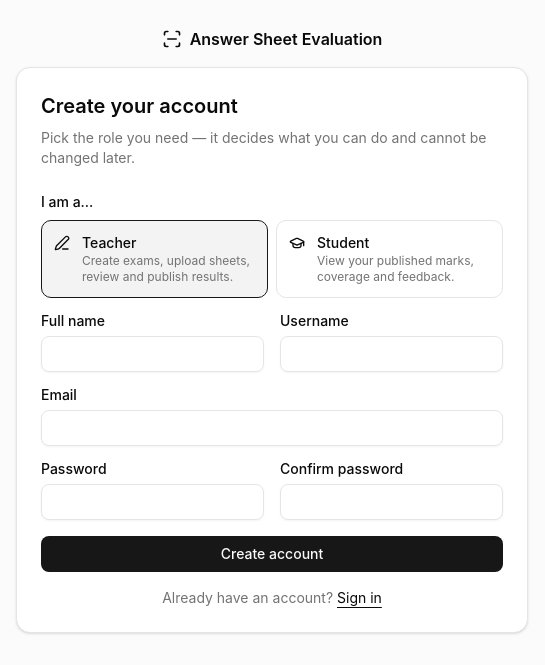
Scenario: Signup › rejects mismatched passwords
Type "A Deepika" into the field labelled "Full name". click: (152, 354)
box: x1=41 y1=336 x2=264 y2=372
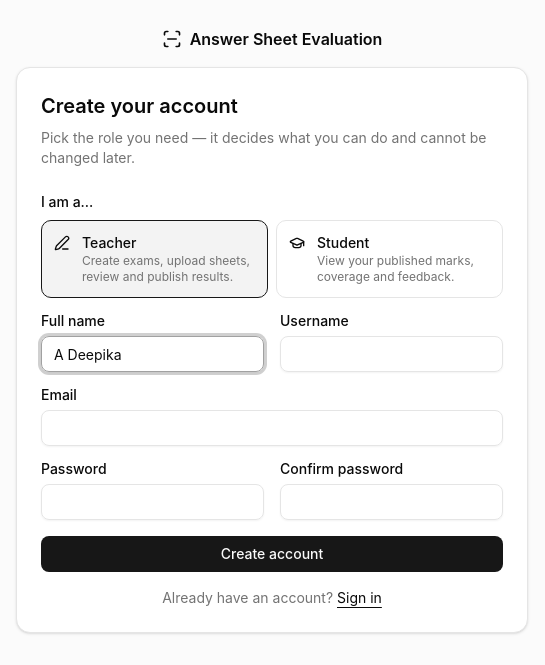
Type "deepika" into the field labelled "Username". click: (392, 354)
box: x1=280 y1=336 x2=503 y2=372
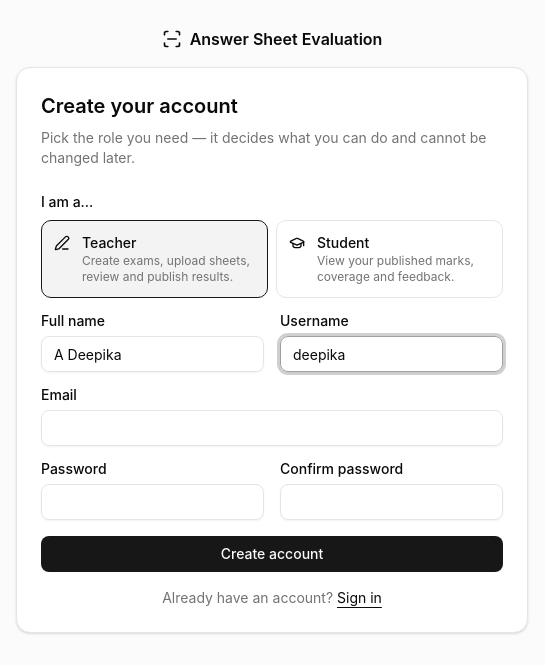
Type "deepika@bmsit.in" into the field labelled "Email". click: (272, 428)
box: x1=41 y1=410 x2=503 y2=446
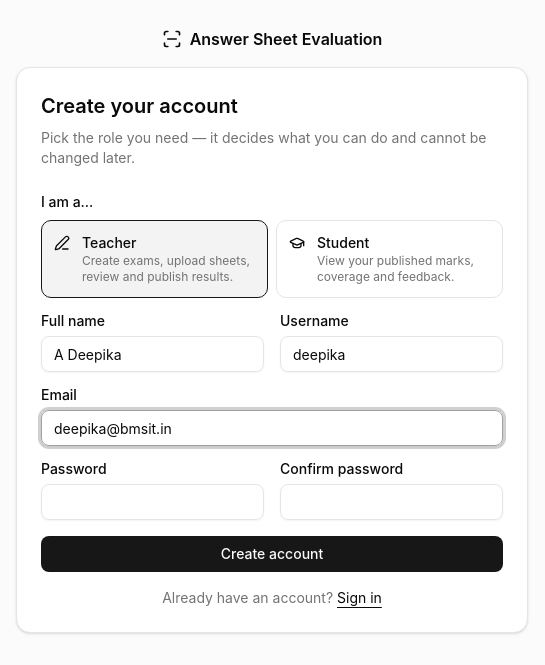
Type "correct-horse" into the password field labelled "Password". click: (152, 502)
box: x1=41 y1=484 x2=264 y2=520
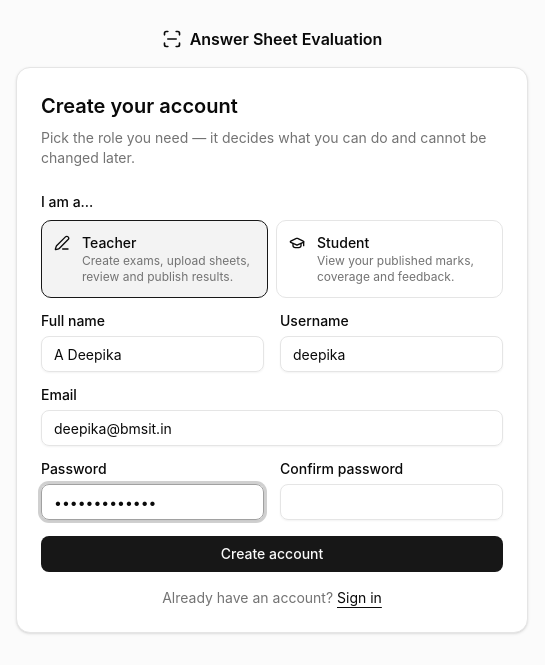
Type "correct-hors" into the password field labelled "Confirm password". click: (392, 502)
box: x1=280 y1=484 x2=503 y2=520
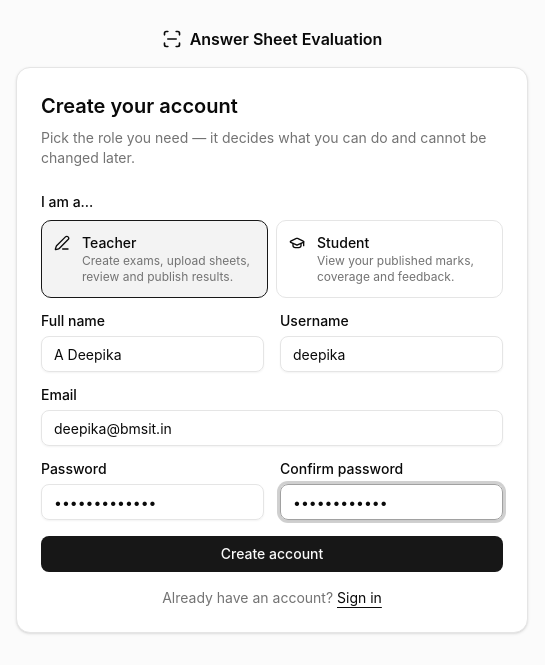
Click the button "Create account". click: (272, 554)
box: x1=41 y1=536 x2=503 y2=572
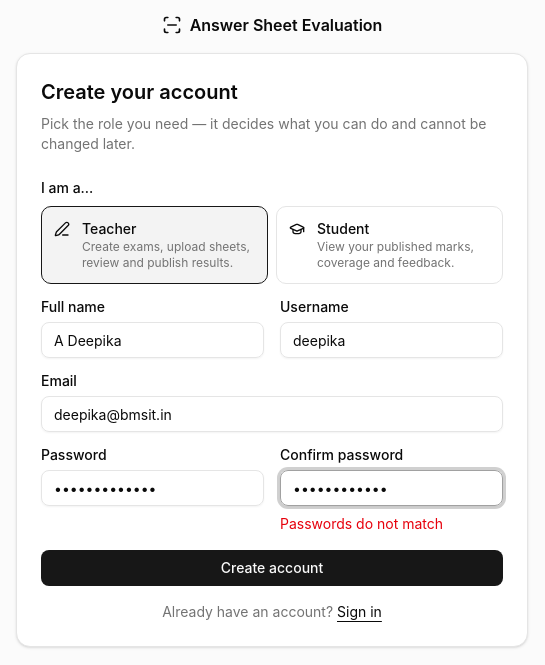
Check: the text "Passwords do not match" is shown, box x1=280 y1=515 x2=443 y2=532
